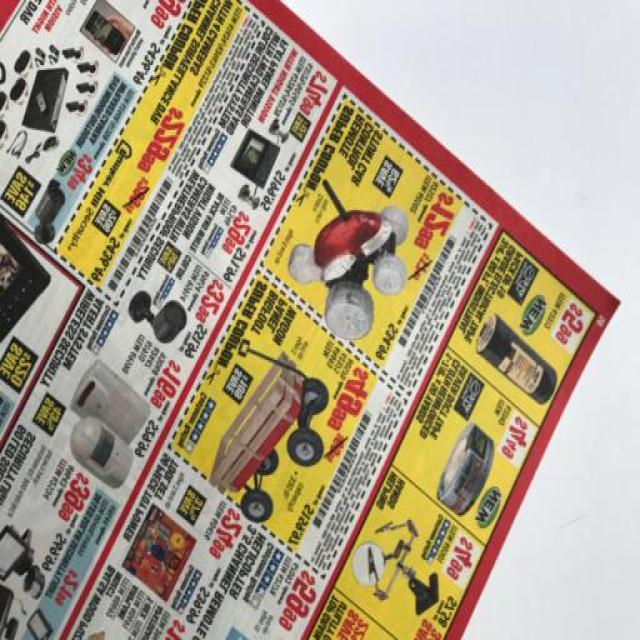paper: (2, 0, 624, 638)
